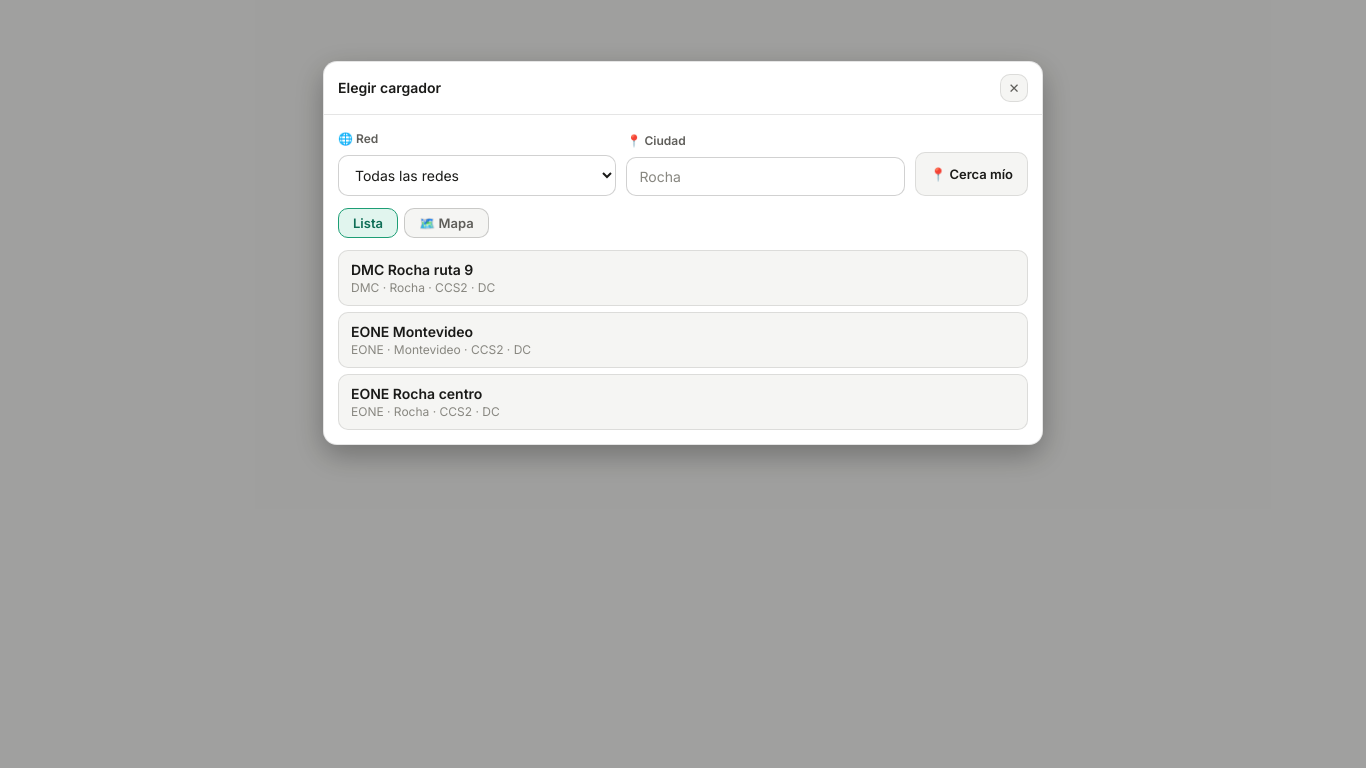
Test: StationPickerModal › narrows the list by city (accent/case-insensitive)
In the search field labelled "📍 Ciudad": [766, 176] box [626,157,905,196], type "montevideo"
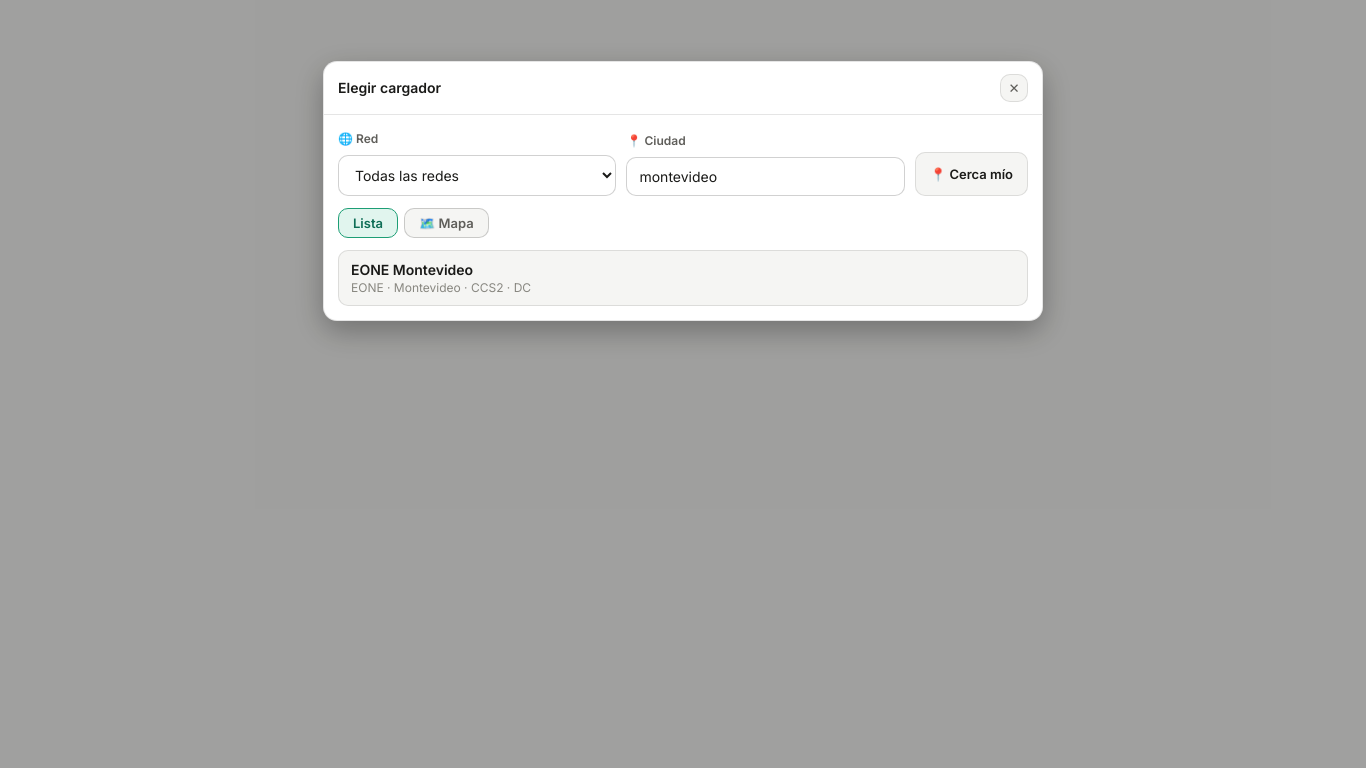
Expected: the text "EONE Montevideo" is shown, [351,261,473,278]
Result: the button "EONE Rocha centro" is gone
Result: the button "DMC Rocha ruta 9" is gone
